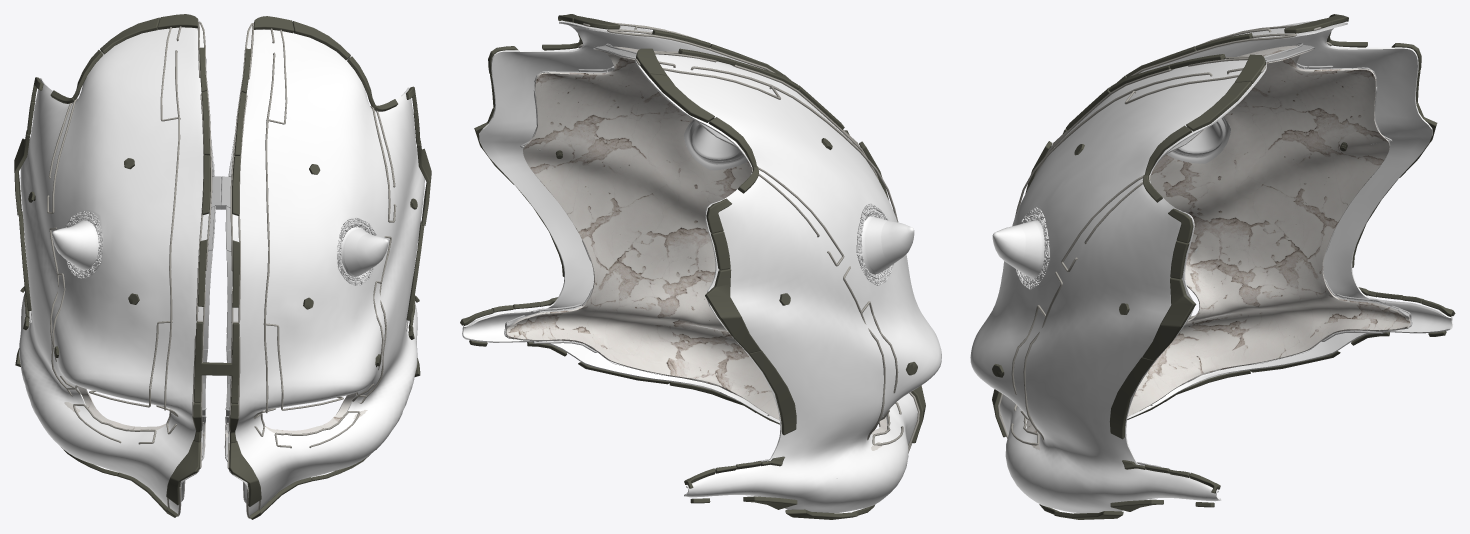
File: model-preview.glb
3 views of the same model, side by side, from view 1: azimuth 30°, elevation 25°; view 2: azimuth 150°, elevation 25°; view 3: azimuth 270°, elevation 25° (orthographic). The views are drawn at different scales.
Parts seen in each view (by area): view 1: Frontmaske.002, Maske_Rand.002, Masken_Streben.002, Maske_Rand_Hinten.002, Maske_Details.002, Mask_Hinten.002, Schrauben.002, Maske_Streben_Hinten.002; view 2: Frontmaske.002, Mask_Hinten.002, Maske_Rand.002, Masken_Streben.002, Maske_Streben_Hinten.002, Maske_Details.002, Maske_Rand_Hinten.002; view 3: Frontmaske.002, Mask_Hinten.002, Maske_Rand.002, Masken_Streben.002, Maske_Streben_Hinten.002, Maske_Details.002, Maske_Rand_Hinten.002.
Boxes of the visible parts, x1=… form: Frontmaske.002: x1=19, y1=24, x2=424, y2=515; Maske_Rand.002: x1=14, y1=14, x2=431, y2=519; Masken_Streben.002: x1=47, y1=21, x2=396, y2=518; Maske_Rand_Hinten.002: x1=28, y1=135, x2=406, y2=503; Maske_Details.002: x1=65, y1=211, x2=376, y2=285; Mask_Hinten.002: x1=31, y1=153, x2=407, y2=501; Schrauben.002: x1=28, y1=158, x2=417, y2=367; Maske_Streben_Hinten.002: x1=31, y1=160, x2=407, y2=500; Frontmaske.002: x1=462, y1=21, x2=941, y2=512; Mask_Hinten.002: x1=505, y1=46, x2=887, y2=450; Maske_Rand.002: x1=460, y1=14, x2=925, y2=519; Masken_Streben.002: x1=578, y1=22, x2=919, y2=453; Maske_Streben_Hinten.002: x1=504, y1=43, x2=769, y2=462; Maske_Details.002: x1=856, y1=203, x2=893, y2=285; Maske_Rand_Hinten.002: x1=505, y1=45, x2=837, y2=478; Frontmaske.002: x1=970, y1=21, x2=1453, y2=513; Mask_Hinten.002: x1=1026, y1=45, x2=1410, y2=450; Maske_Rand.002: x1=992, y1=14, x2=1455, y2=519; Masken_Streben.002: x1=997, y1=25, x2=1331, y2=445; Maske_Streben_Hinten.002: x1=1137, y1=42, x2=1412, y2=467; Maske_Details.002: x1=1015, y1=207, x2=1049, y2=289; Maske_Rand_Hinten.002: x1=1139, y1=44, x2=1410, y2=465.
Bounding box in the file's own units: 2.44 × 2.5 × 2.32.
8 materials, 3 textured.
